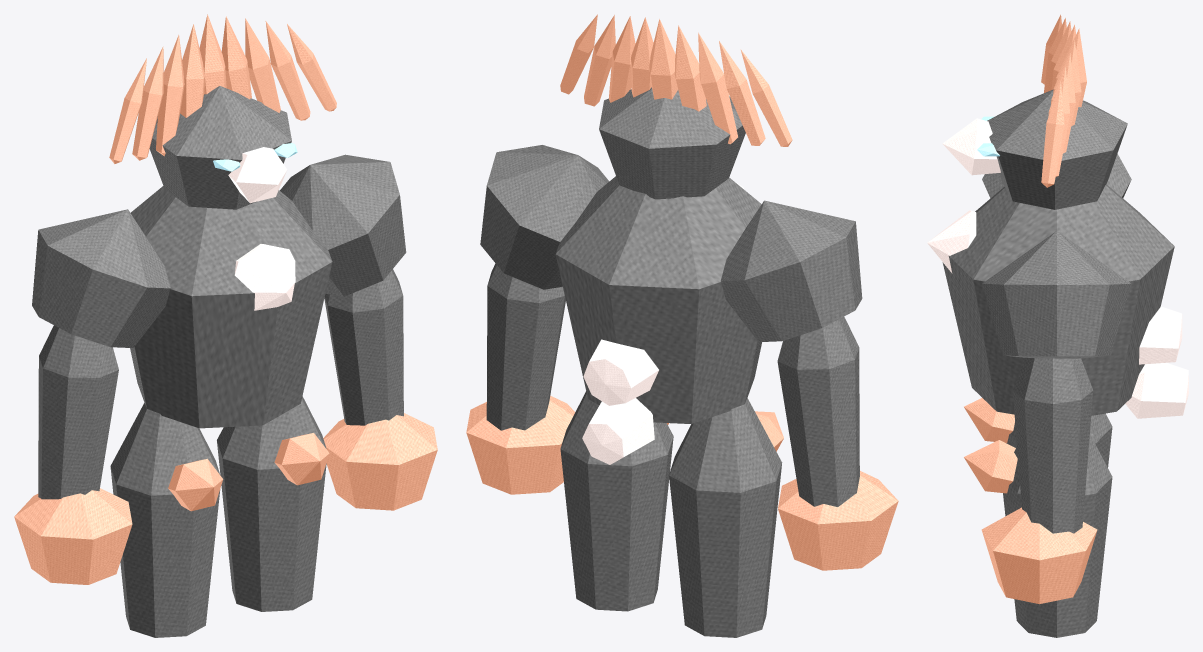
File: deep-fracture-deep-colossus-visual-fire.glb
3 renders of one model, left to right at view 1: azimuth 30°, elevation 25°; view 2: azimuth 150°, elevation 25°; view 3: azimuth 270°, elevation 25°, orthographic. The views are drawn at different scales.
Visible parts, largest first — view 1: citadel-torso, leg--1, leg-1, shoulder--1, shoulder-1, arm--1, crown, arm-1, fist--1, fist-1, regeneration-core, face-core (+11 smaller); view 2: citadel-torso, leg--1, leg-1, shoulder--1, arm--1, shoulder-1, crown, arm-1, fist--1, fist-1, resistance-core, death-anchor (+9 smaller); view 3: citadel-torso, shoulder-1, arm-1, crown, fist-1, leg-1, death-anchor, resistance-core, knee-1, face-core, regeneration-core, crown-spire-8 (+9 smaller).
Boxes of the visible parts, box(x1,y1,x2,y2) form: citadel-torso: box(130, 186, 332, 428); leg--1: box(110, 403, 220, 637); leg-1: box(217, 396, 326, 611); shoulder--1: box(32, 209, 170, 347); shoulder-1: box(280, 154, 406, 296); arm--1: box(38, 325, 118, 499); crown: box(149, 86, 291, 209); arm-1: box(324, 269, 403, 425); fist--1: box(14, 488, 132, 584); fist-1: box(323, 413, 437, 510); regeneration-core: box(234, 244, 295, 310); face-core: box(228, 147, 287, 203); citadel-torso: box(555, 176, 761, 423); leg--1: box(669, 398, 782, 637); leg-1: box(560, 391, 673, 611); shoulder--1: box(720, 200, 862, 342); arm--1: box(777, 317, 859, 506); shoulder-1: box(480, 145, 609, 289); crown: box(599, 87, 745, 199); arm-1: box(486, 263, 565, 430); fist--1: box(778, 471, 898, 570); fist-1: box(466, 395, 575, 494); resistance-core: box(583, 339, 658, 405); death-anchor: box(582, 398, 654, 464); citadel-torso: box(942, 184, 1174, 415); shoulder-1: box(982, 231, 1131, 358); arm-1: box(1012, 357, 1093, 533); crown: box(987, 89, 1127, 209); fist-1: box(981, 507, 1097, 604); leg-1: box(1003, 434, 1112, 637); death-anchor: box(1125, 362, 1188, 418); resistance-core: box(1139, 306, 1182, 364); knee-1: box(964, 440, 1017, 493); face-core: box(942, 118, 1000, 175); regeneration-core: box(927, 210, 976, 273); crown-spire-8: box(1041, 80, 1064, 187).
Bounding box in the file's own units: 4.74 × 6.65 × 2.73.
6 materials, 6 textured.
